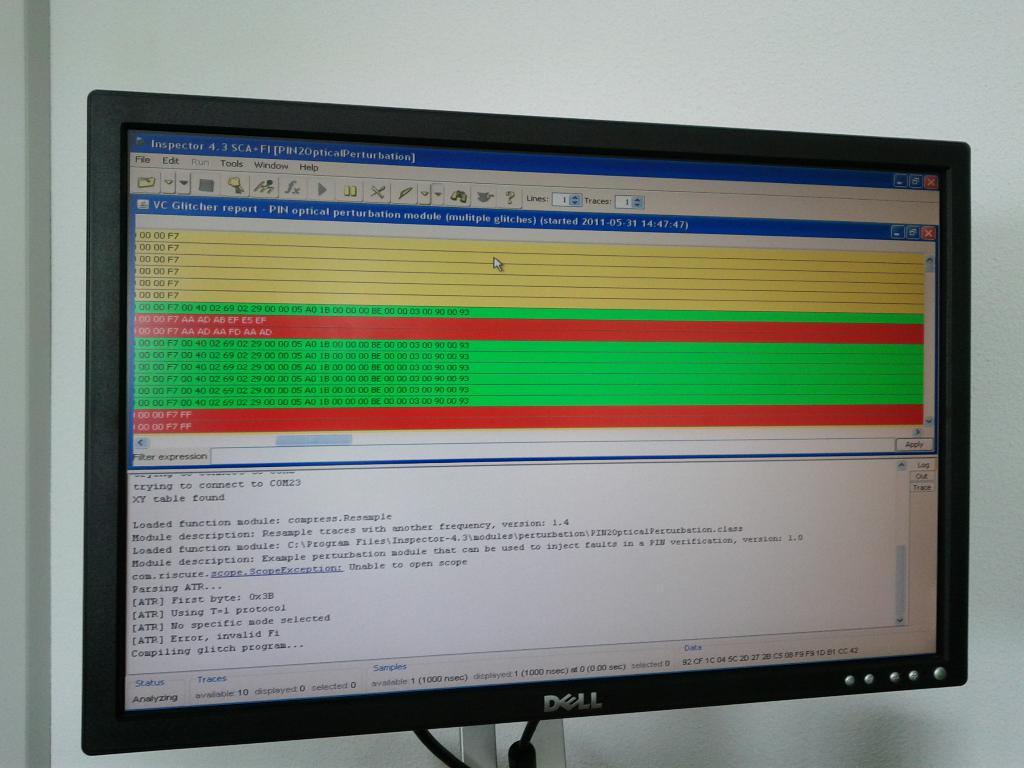Computer-monitor: (50, 131, 983, 761)
